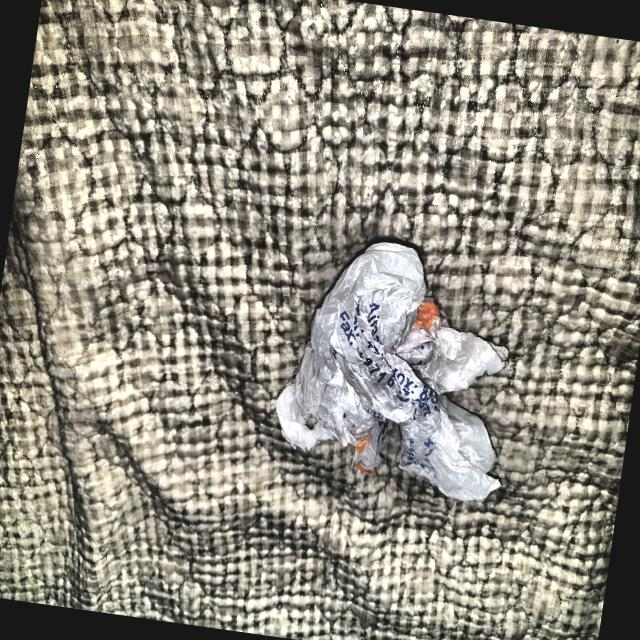plastic bag: (263, 220, 542, 513)
